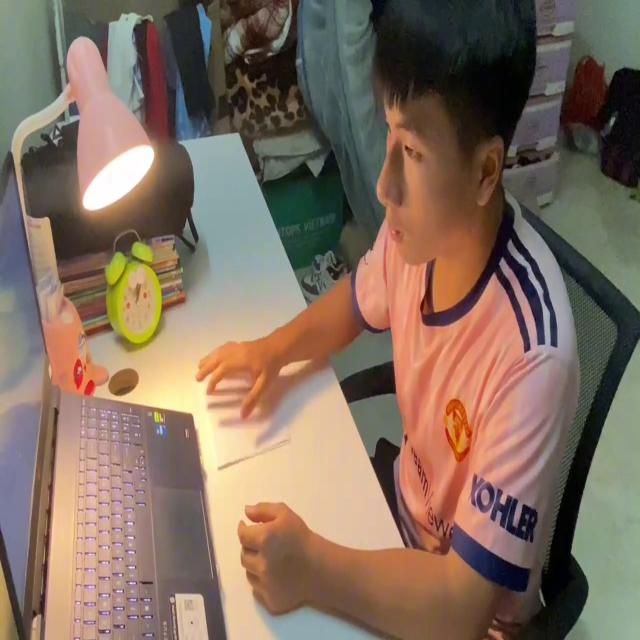book: (192, 344, 292, 467)
laptop: (0, 144, 230, 640)
student: (196, 0, 584, 640)
